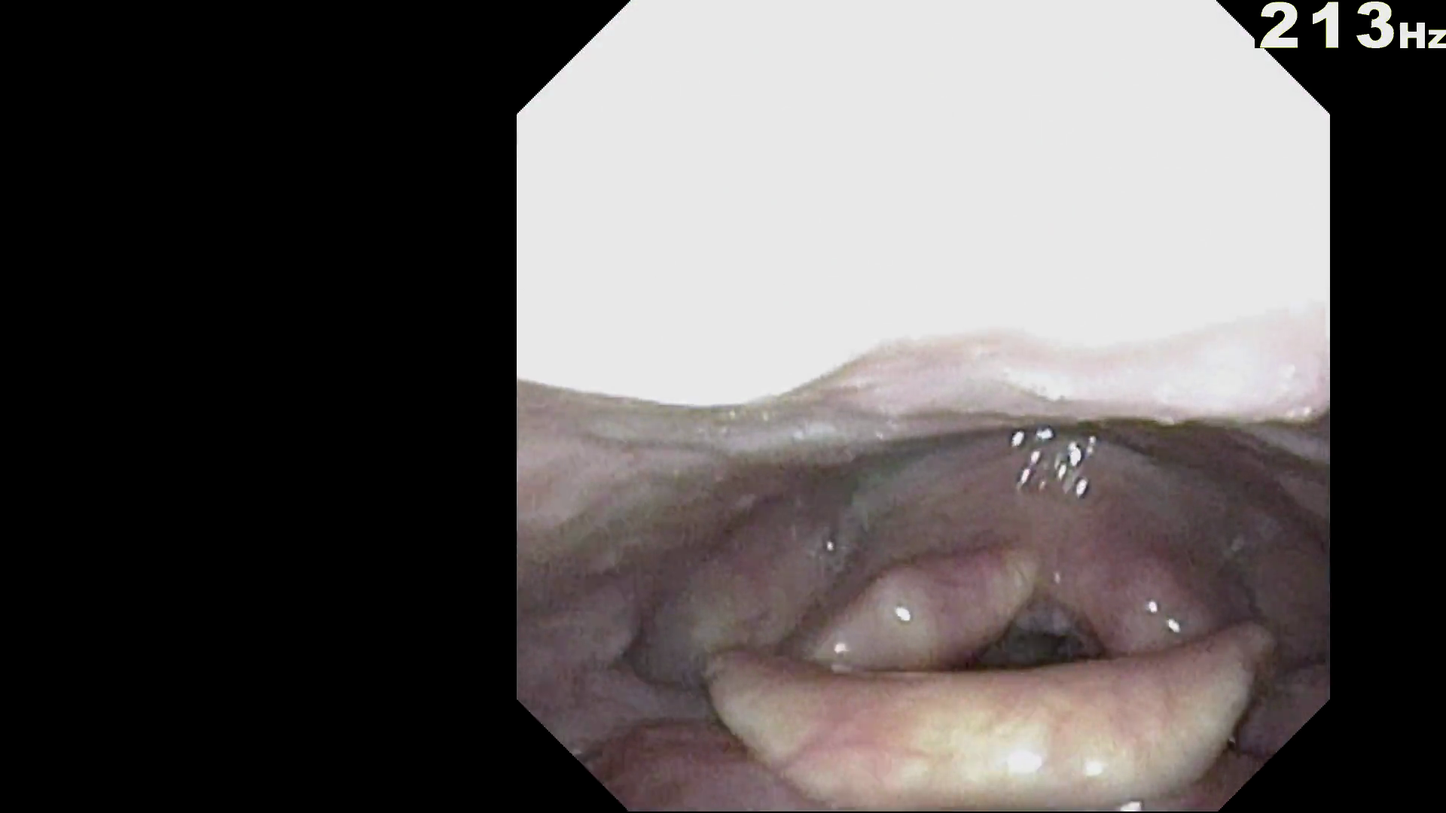epiglottis: (699, 652, 1241, 792)
trachea: (951, 590, 1091, 694)
